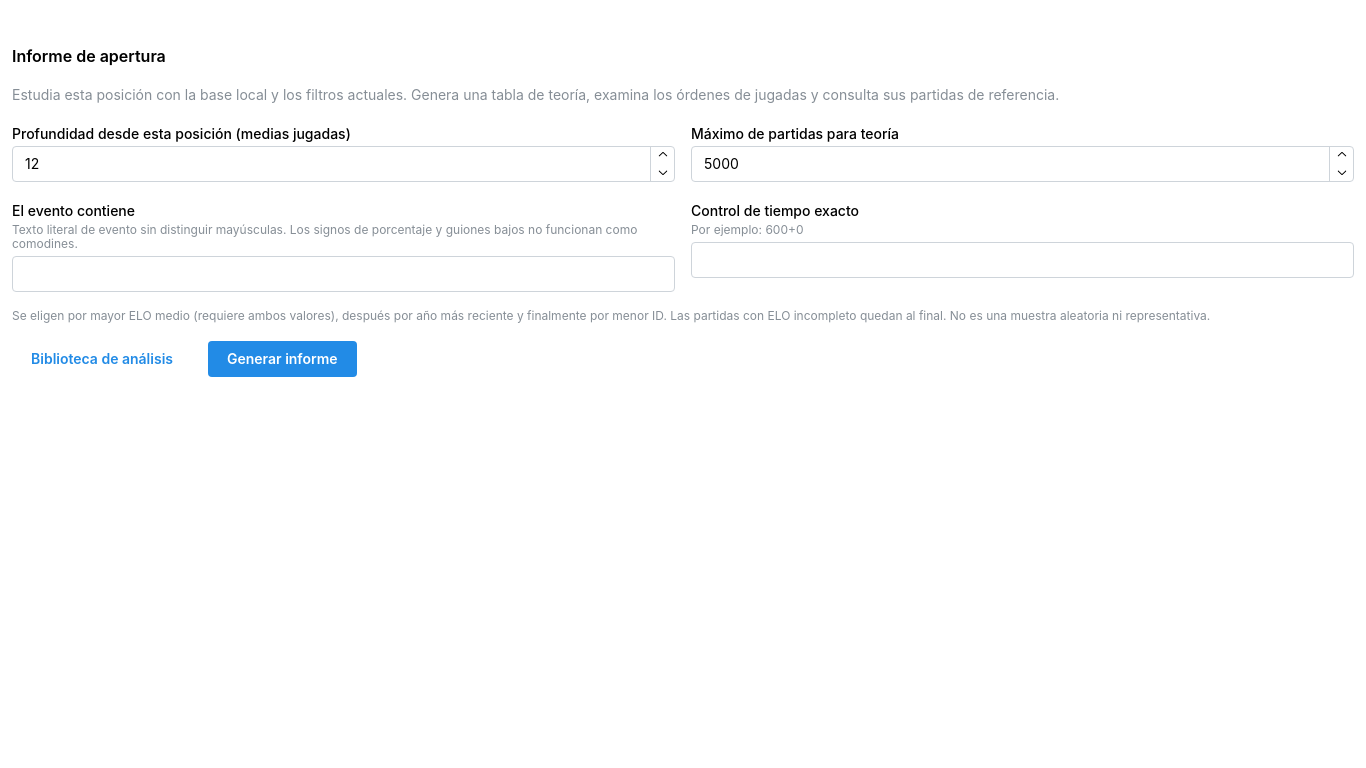
it: generates explicitly, reuses Games and does not fetch PGN until opening a reference
Click the button "Generar informe" at (282, 359), box [208,341,357,377]
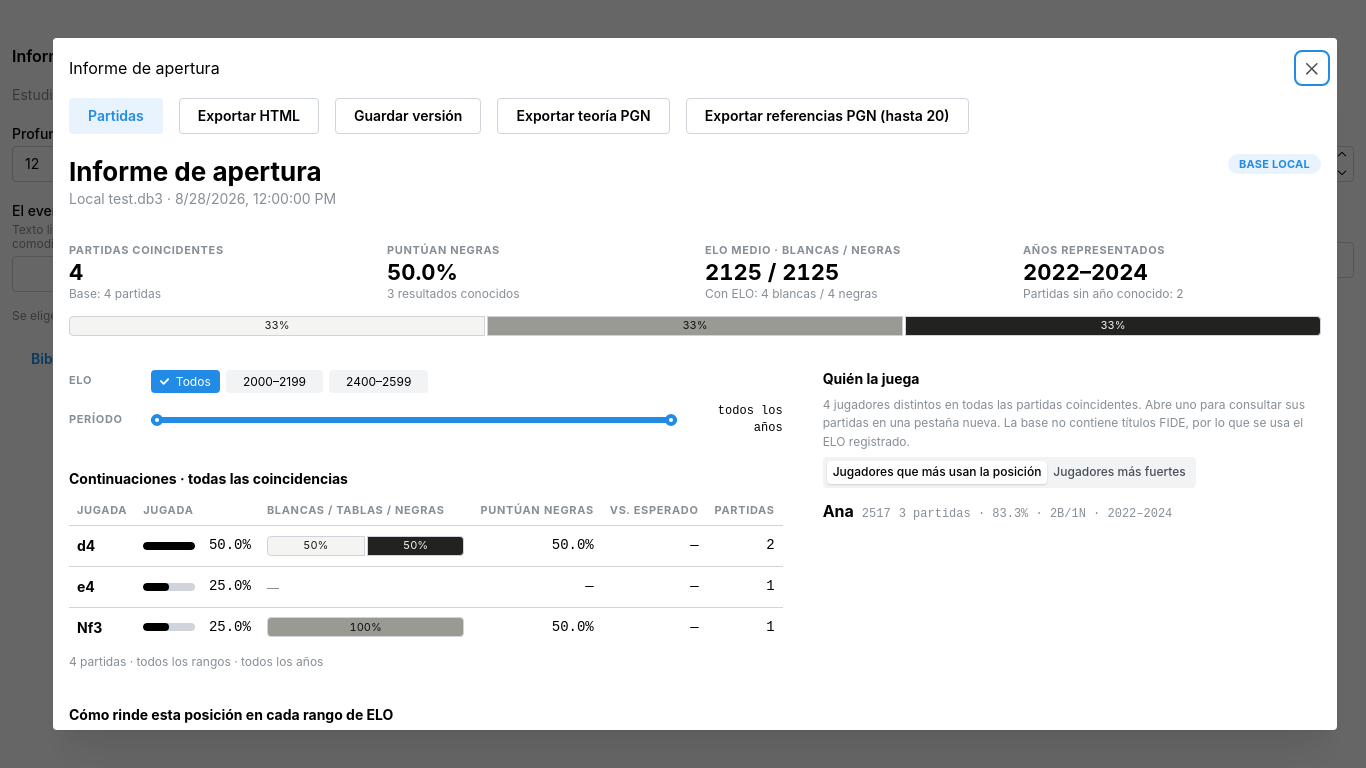
Check: the button "Partidas" is shown
Click the button "Partidas" at (116, 116), box [69,98,163,134]
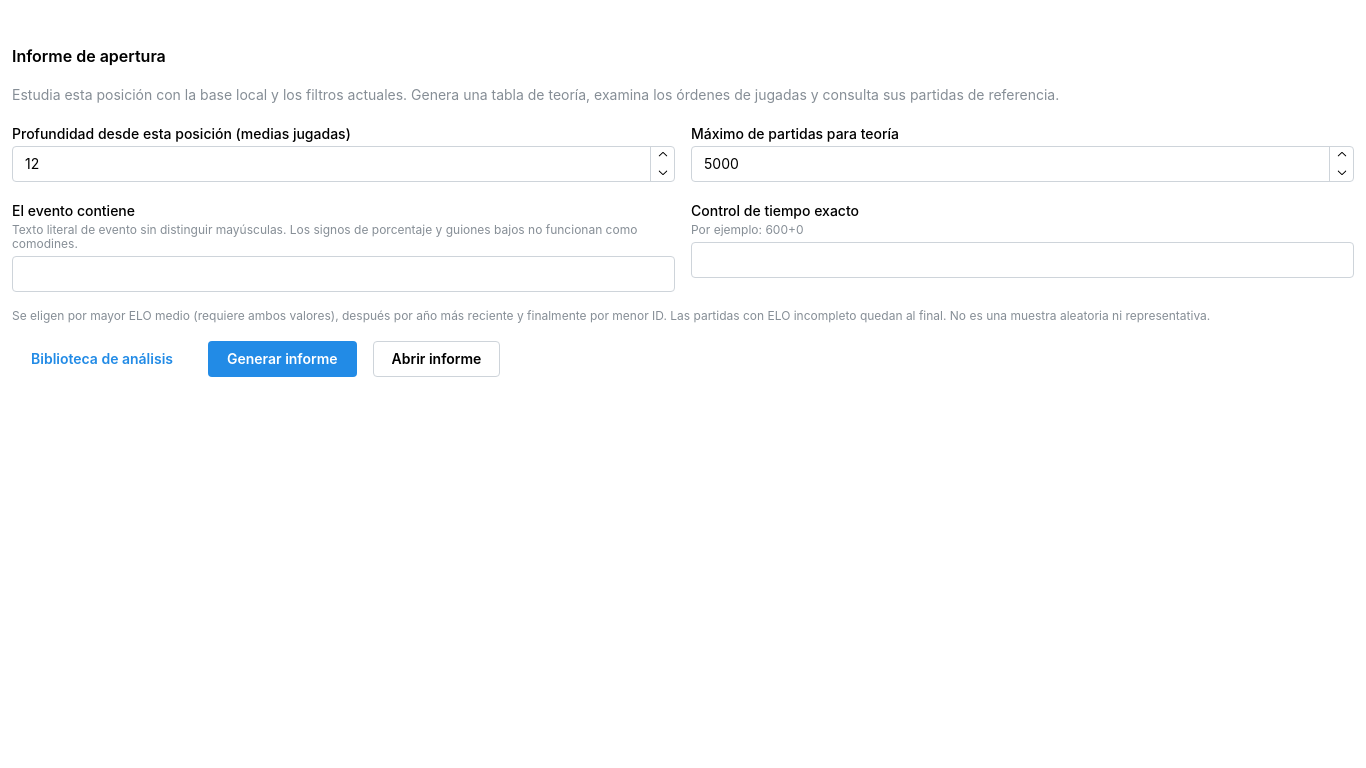
Check: the dialog is gone
